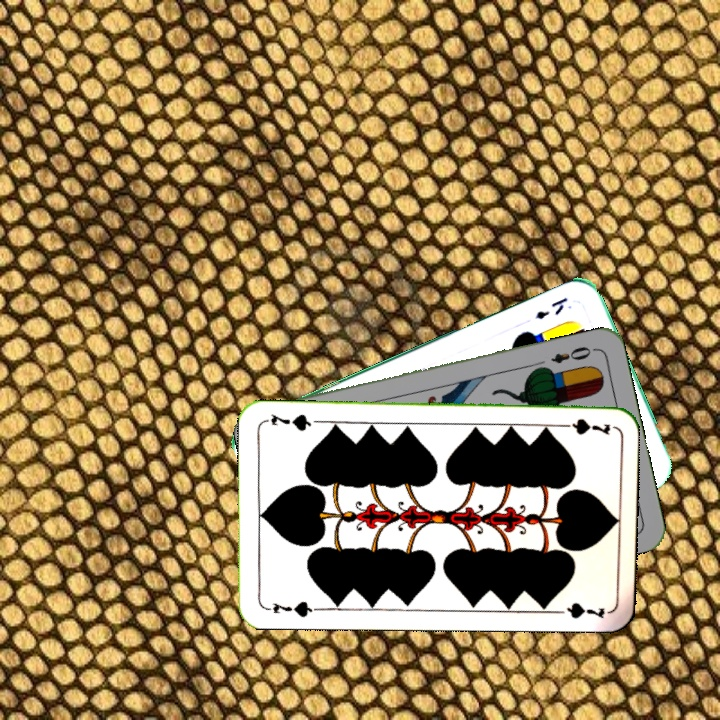EK: (531, 293, 571, 322)
EO: (547, 342, 598, 366)
G7: (553, 414, 612, 437), (262, 598, 321, 620)
